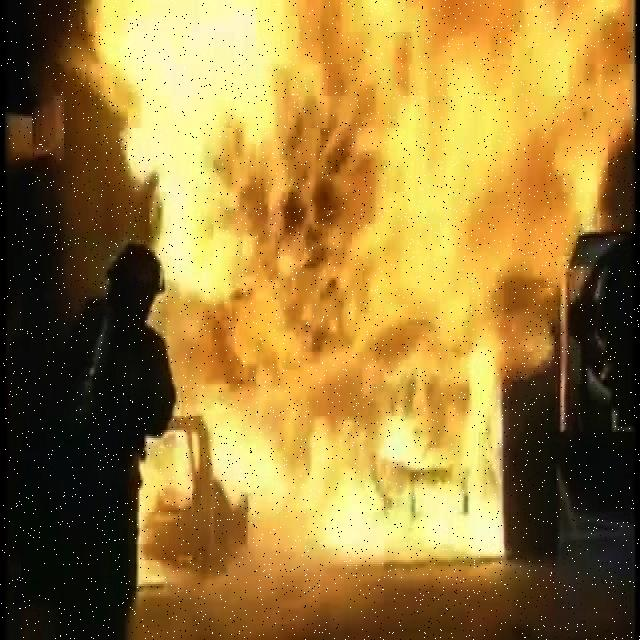fire: (148, 345, 520, 592)
